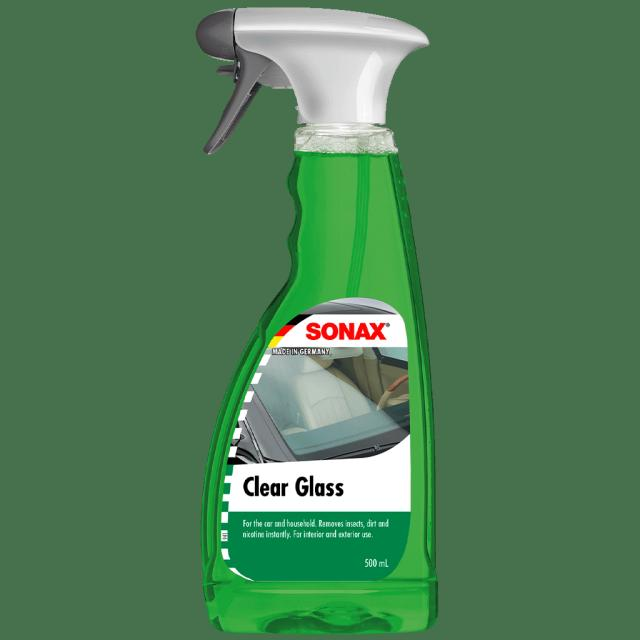winwinshield_washer: (194, 1, 432, 637)
